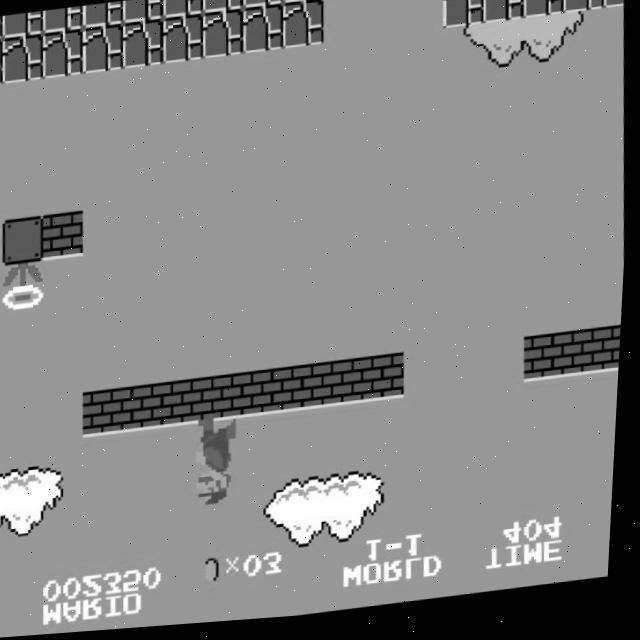0- big_mario: (194, 420, 246, 518)
1- brick_block: (43, 211, 88, 262), (125, 385, 170, 435), (206, 376, 251, 426), (246, 372, 291, 422), (526, 341, 571, 391), (85, 390, 130, 439), (286, 368, 331, 417), (325, 364, 370, 413), (365, 359, 410, 408), (566, 337, 611, 386), (166, 381, 210, 430), (606, 335, 625, 382)
17- undestructible_block: (41, 29, 86, 80), (81, 25, 126, 76), (121, 20, 166, 71), (241, 7, 286, 58), (1, 34, 46, 84), (161, 16, 206, 66), (201, 12, 246, 62), (281, 3, 326, 53), (441, 0, 486, 36), (482, 0, 527, 31), (522, 0, 567, 27), (1, 11, 44, 39), (41, 7, 85, 34), (82, 3, 125, 30), (122, 0, 165, 26), (562, 0, 607, 22), (162, 0, 205, 21), (202, 0, 245, 17), (242, 0, 285, 12), (602, 0, 626, 18), (282, 0, 325, 8), (0, 38, 5, 85), (0, 16, 4, 40)
3- empty_block: (3, 216, 48, 267)
6- flower: (2, 262, 49, 315)
